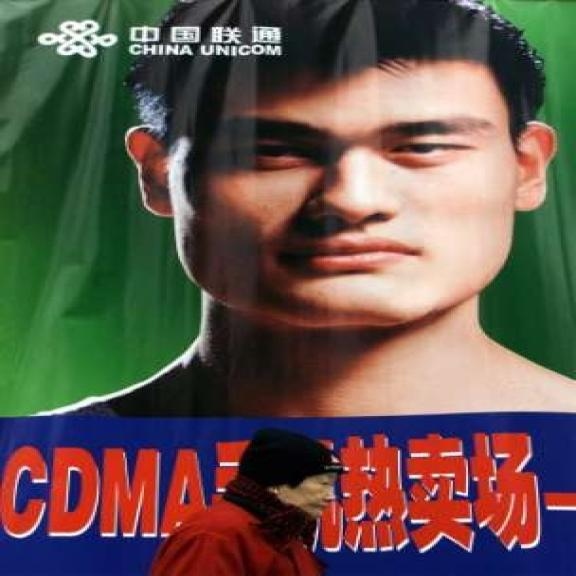face: (126, 54, 567, 338), (269, 453, 346, 520)
